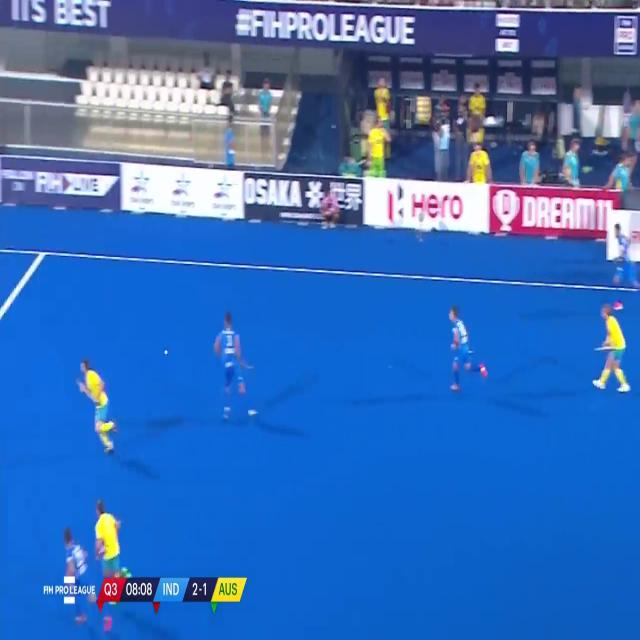ball: (162, 347, 170, 357)
